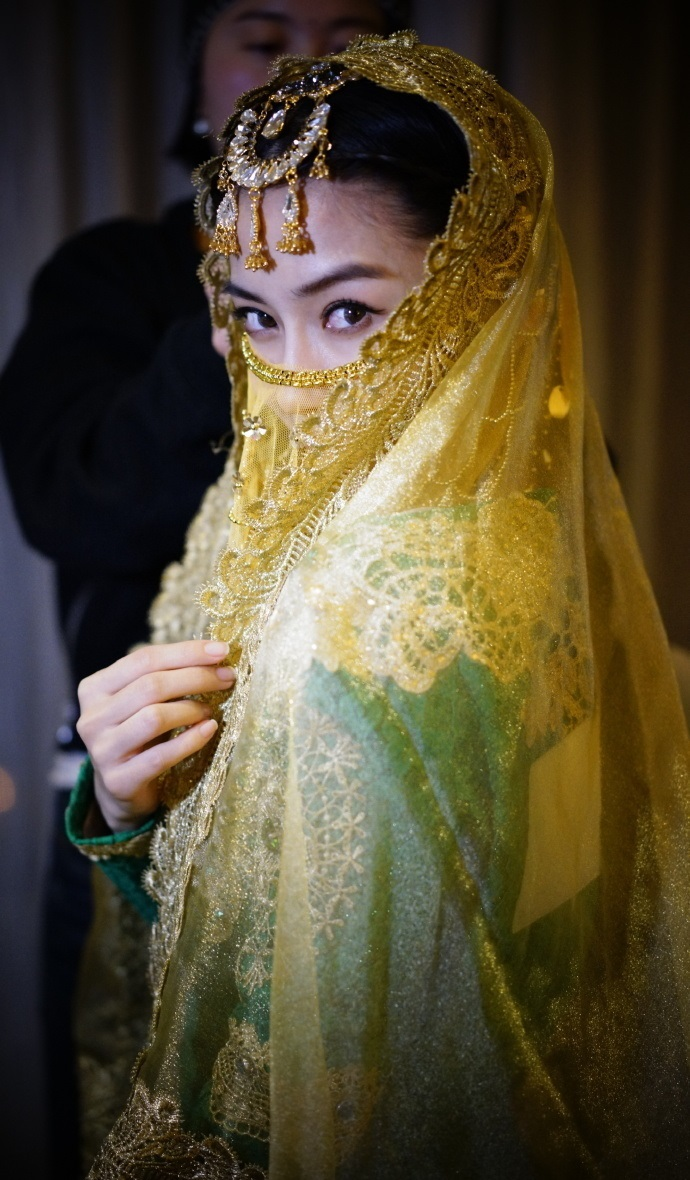face: (220, 169, 429, 468), (212, 1, 390, 170)
